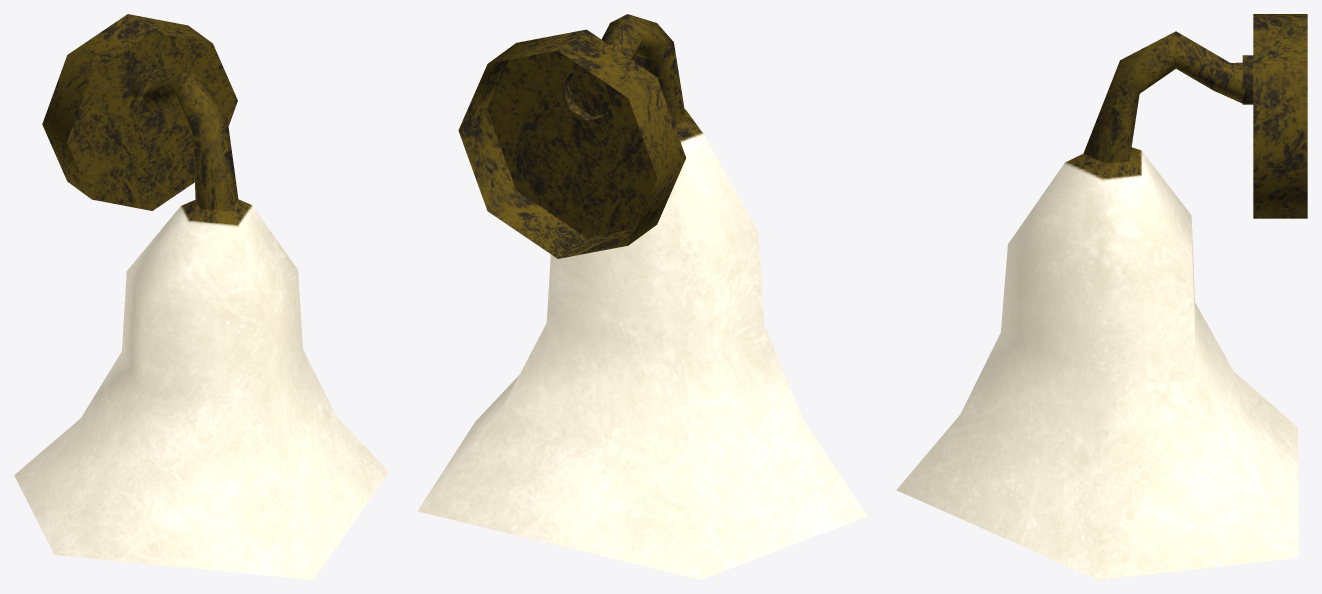
File: WallLamp_1.fbx
3 renders of one model, left to right at view 1: azimuth 30°, elevation 25°; view 2: azimuth 150°, elevation 25°; view 3: azimuth 270°, elevation 25°, orthographic. The views are drawn at different scales.
Visible parts, largest first — view 1: Wall_light.001, Wall_light; view 2: Wall_light.001, Wall_light; view 3: Wall_light.001, Wall_light.
Boxes of the visible parts, x1=… form: Wall_light.001: x1=14, y1=199, x2=388, y2=579; Wall_light: x1=42, y1=14, x2=238, y2=211; Wall_light.001: x1=418, y1=109, x2=867, y2=579; Wall_light: x1=458, y1=14, x2=686, y2=258; Wall_light.001: x1=896, y1=147, x2=1298, y2=579; Wall_light: x1=1083, y1=14, x2=1307, y2=218.
Size of the model in its own units: 43.03 by 52.55 by 41.42.
